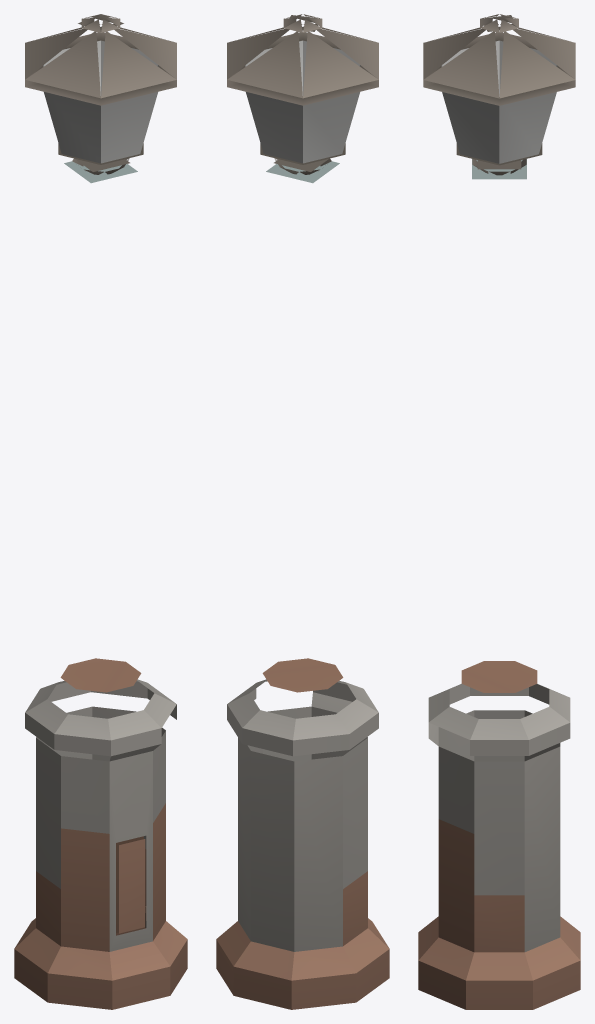
File: lamp.lod.glb
3 renders of one model, left to right at view 1: azimuth 30°, elevation 25°; view 2: azimuth 150°, elevation 25°; view 3: azimuth 270°, elevation 25°, orthographic.
Visible parts, largest first — view 1: lamp; view 2: lamp; view 3: lamp.
Part boxes in pixels (x1,y1,x2,y2): lamp: (14, 14, 187, 1009); lamp: (216, 14, 389, 1009); lamp: (418, 14, 580, 1009).
Bounding box in the file's own units: 0.6513 × 3.91 × 0.6.
